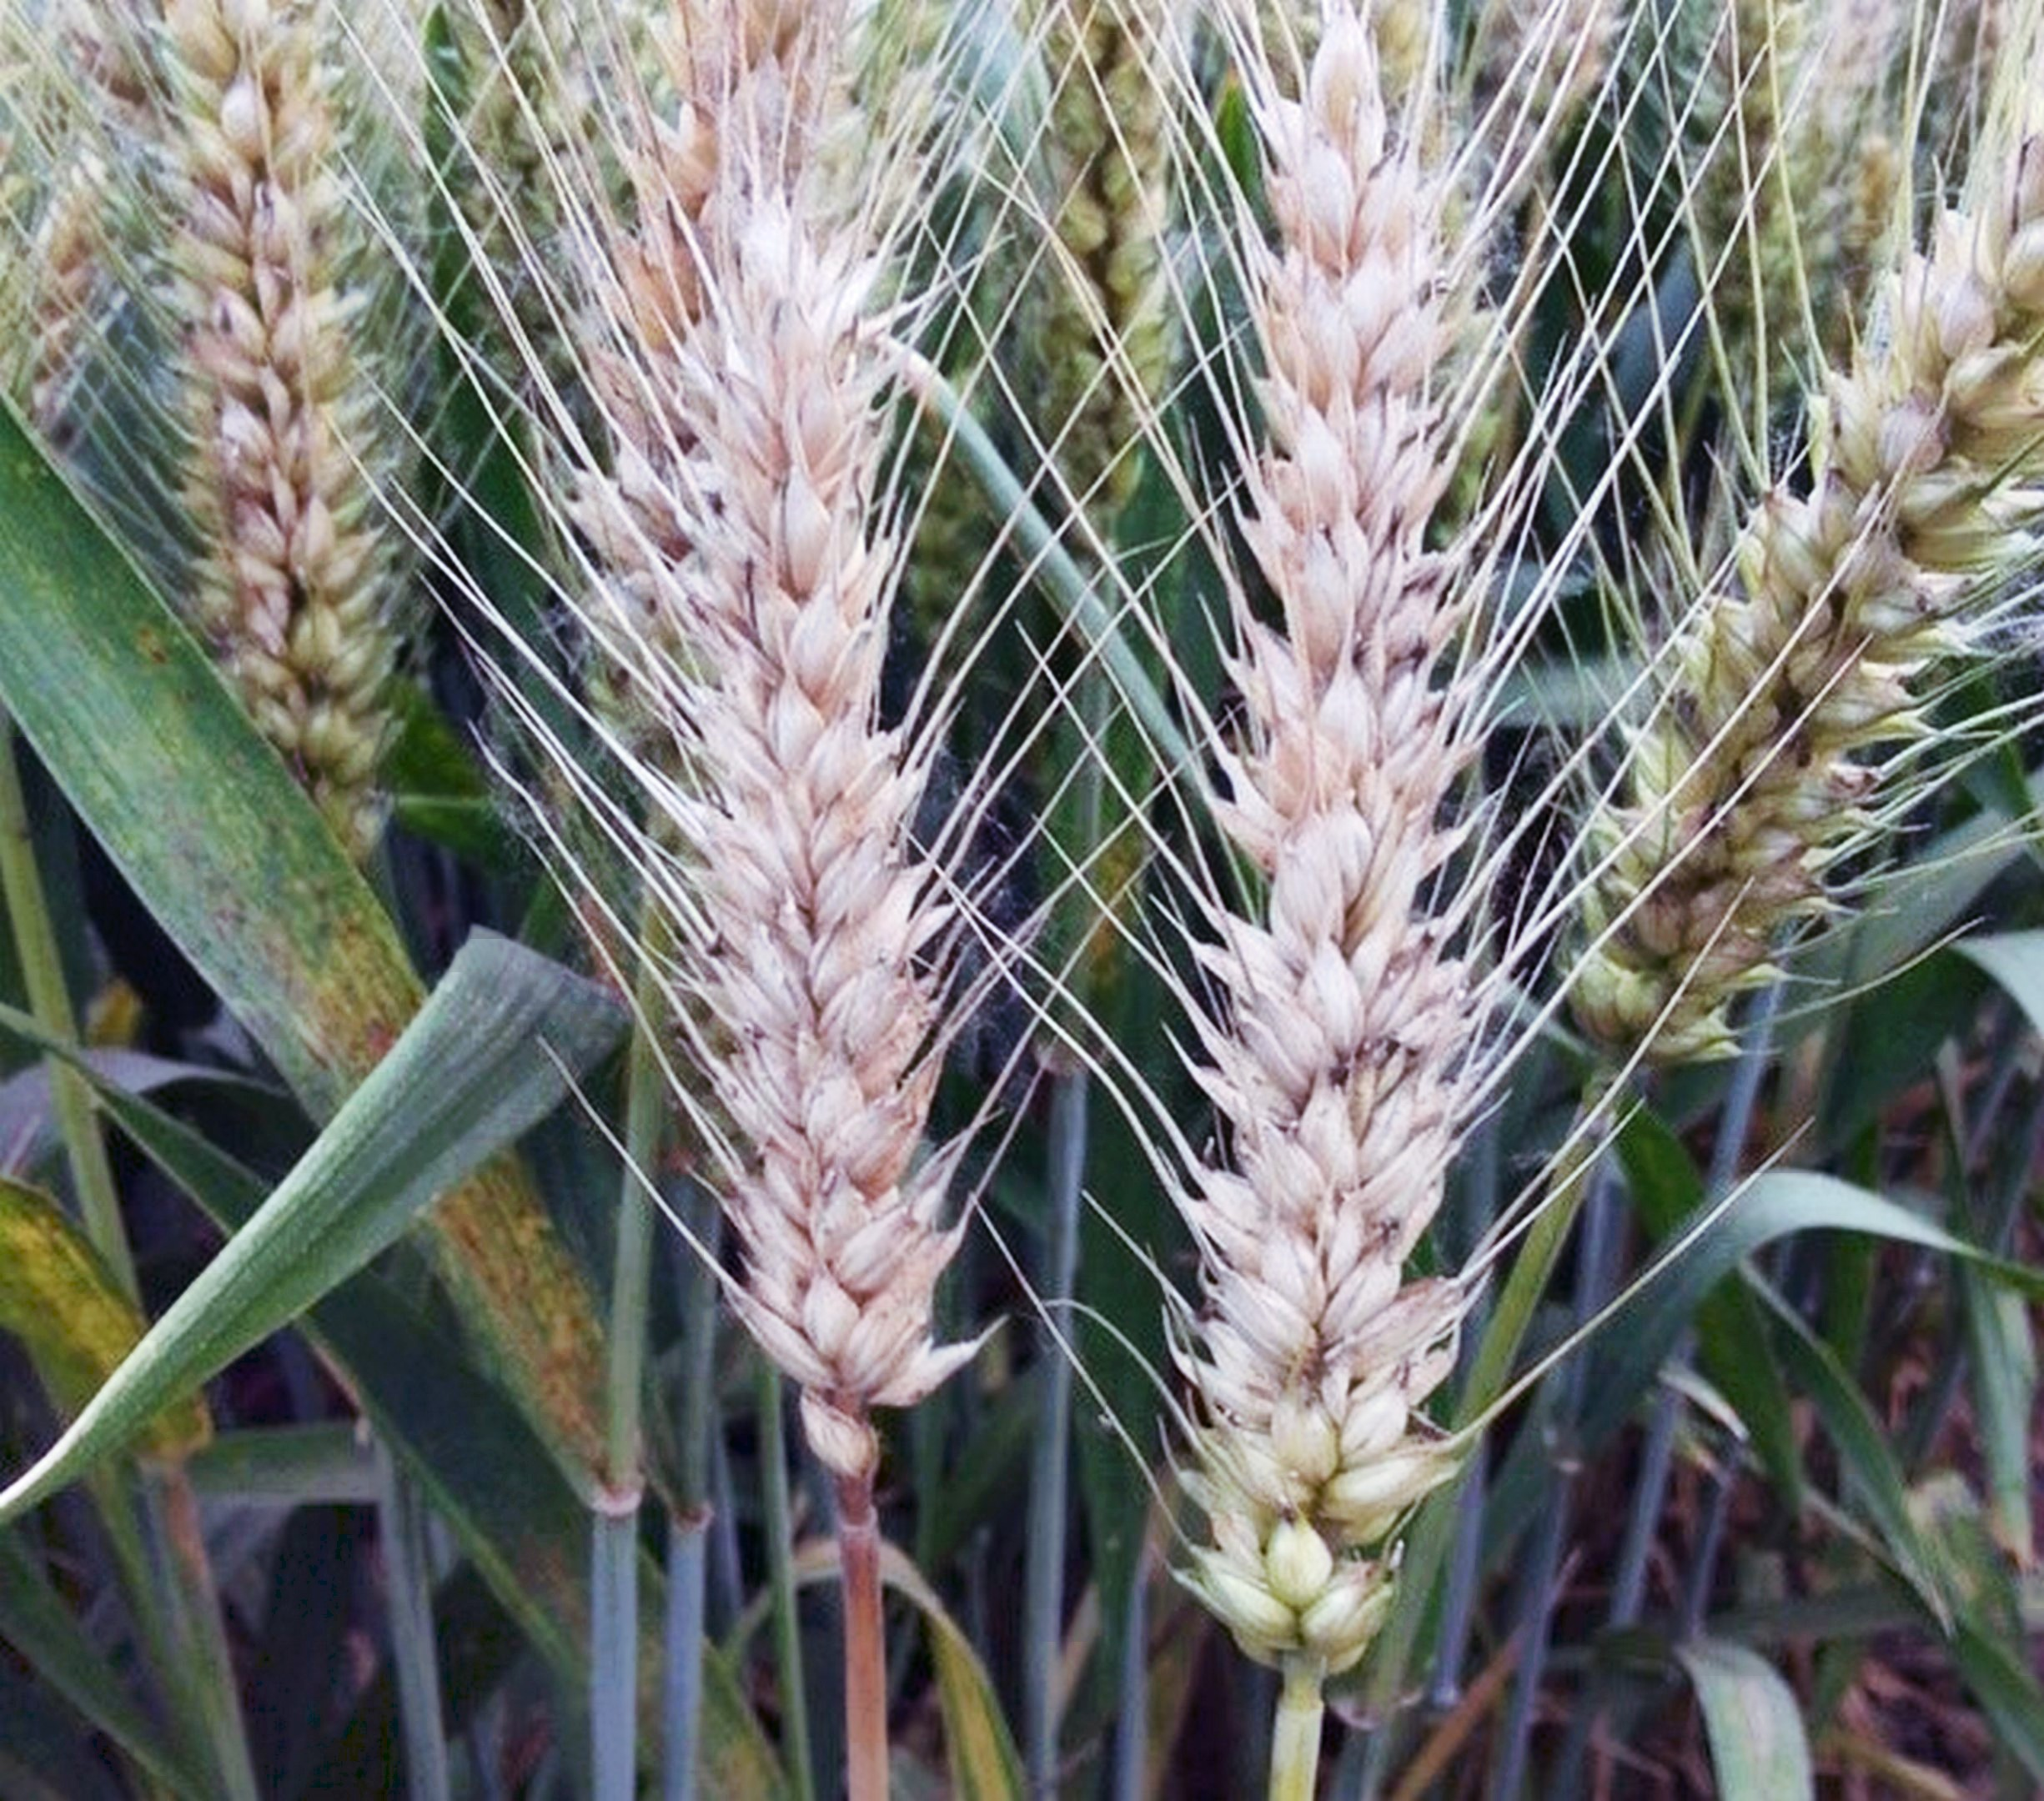Wheat scab: (640, 183, 965, 1459), (1569, 210, 2044, 1031), (1170, 794, 1467, 1700), (120, 0, 428, 786)
